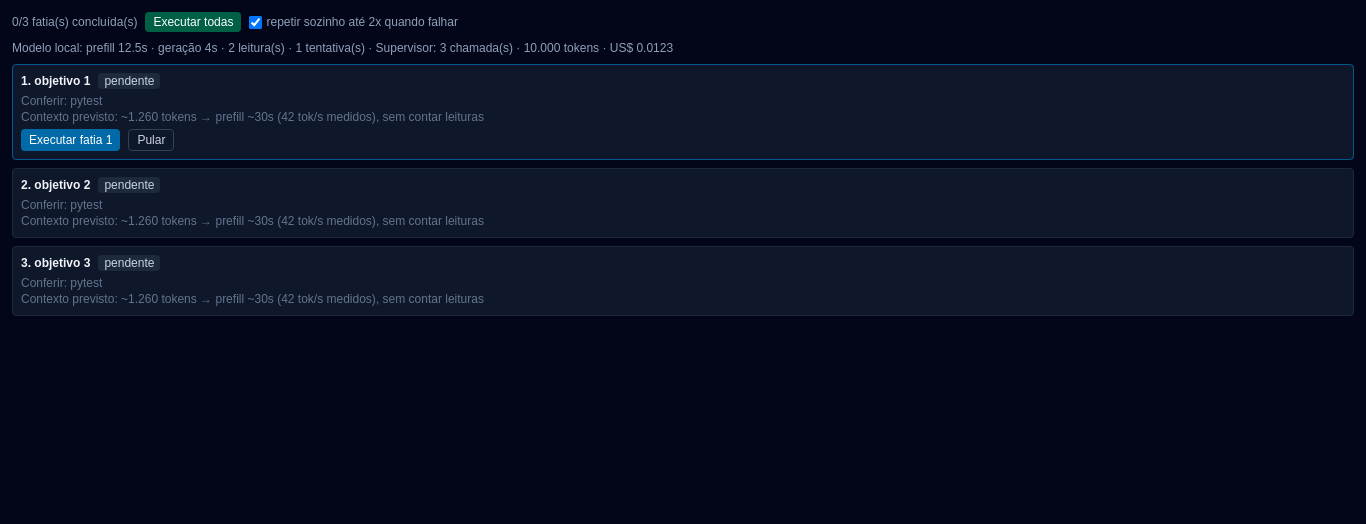
Test: PainelExecucao › incorpora em squash e avisa que o push é do operador
The image size is (1366, 524).
What coordinates should you click on to do the following:
click the button "Executar fatia 1"
I would click on:
 (71, 140)
Its box is [21,129,120,151].
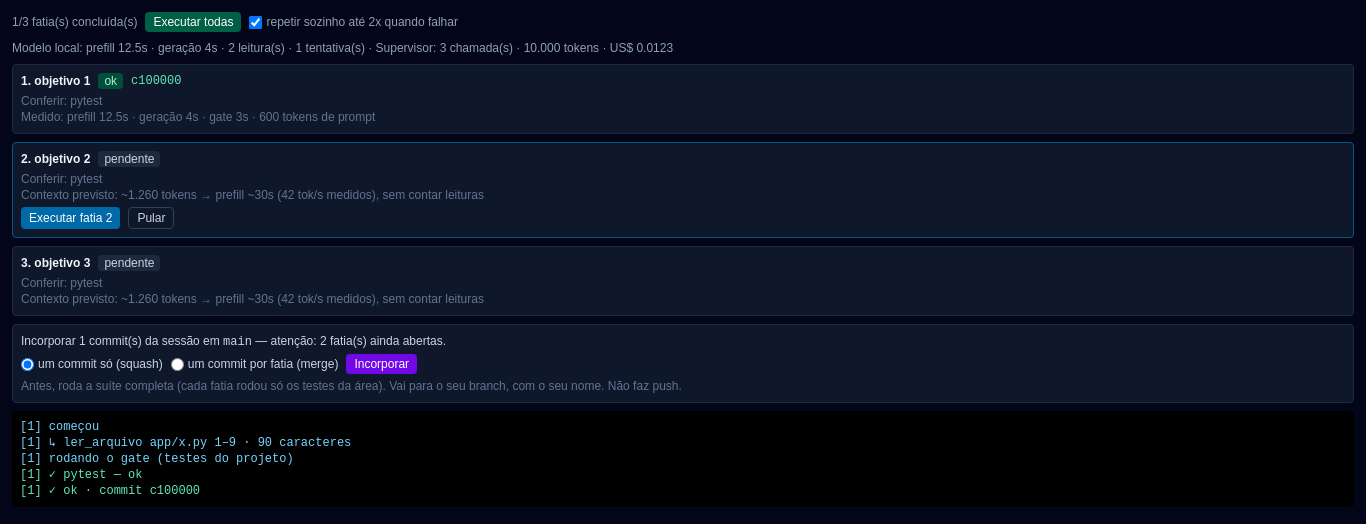
Expected: the element "Incorporar" shows "2 fatia(s) ainda abertas", [252,334,443,348]
What coordinates should you click on to do the following:
click the button "Incorporar"
I would click on:
 (382, 364)
Its box is [346,354,417,374].
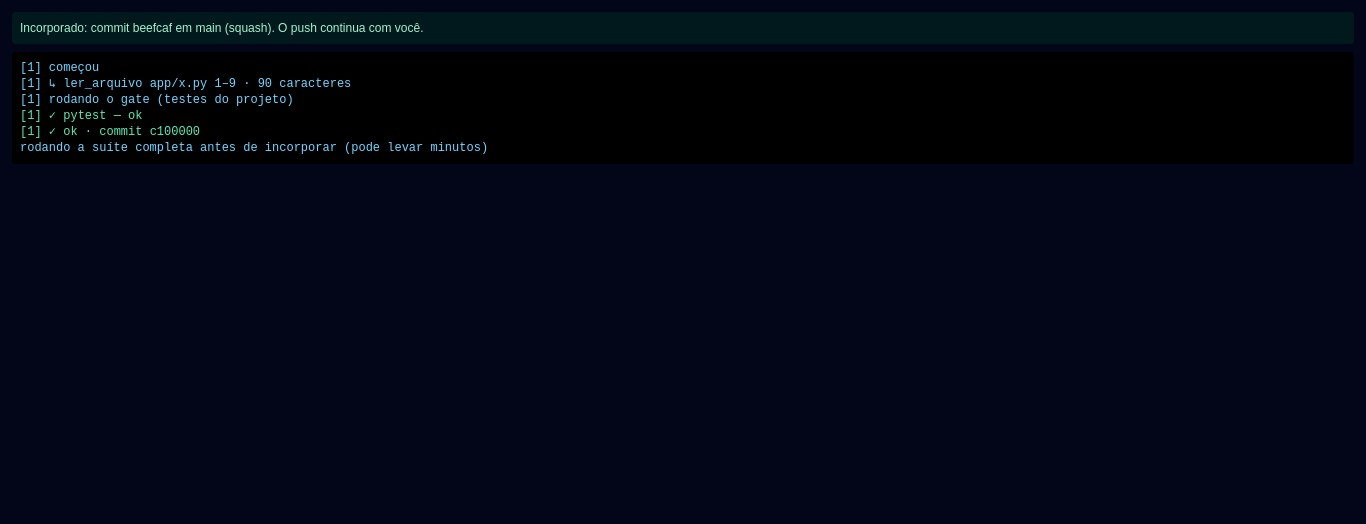
Expected: the text "Incorporado: commit beefcaf em main (squash)" is shown, [12,12,1354,44]
